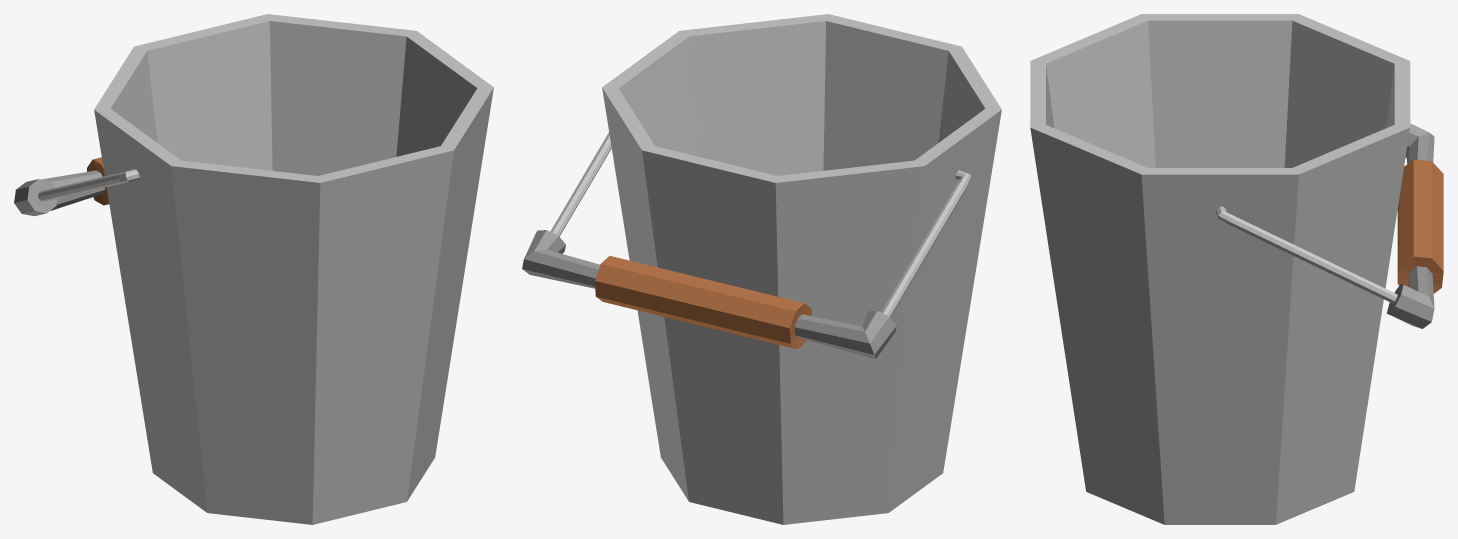
Rendered from bucket01.gltf.
The picture shows the model from 3 angles, left to right: view 1: azimuth 30°, elevation 25°; view 2: azimuth 150°, elevation 25°; view 3: azimuth 270°, elevation 25°; orthographic projection.
Parts seen in each view (by area): view 1: Cylinder.001; view 2: Cylinder.001; view 3: Cylinder.001.
Boxes of the visible parts, x1,y1,x2,y2 form: Cylinder.001: (14, 14, 493, 524); Cylinder.001: (522, 14, 1001, 524); Cylinder.001: (1030, 14, 1443, 524).
Size of the model in its own units: 0.2854 by 0.2769 by 0.2774.
Materials: 1 (1 with a texture image).
